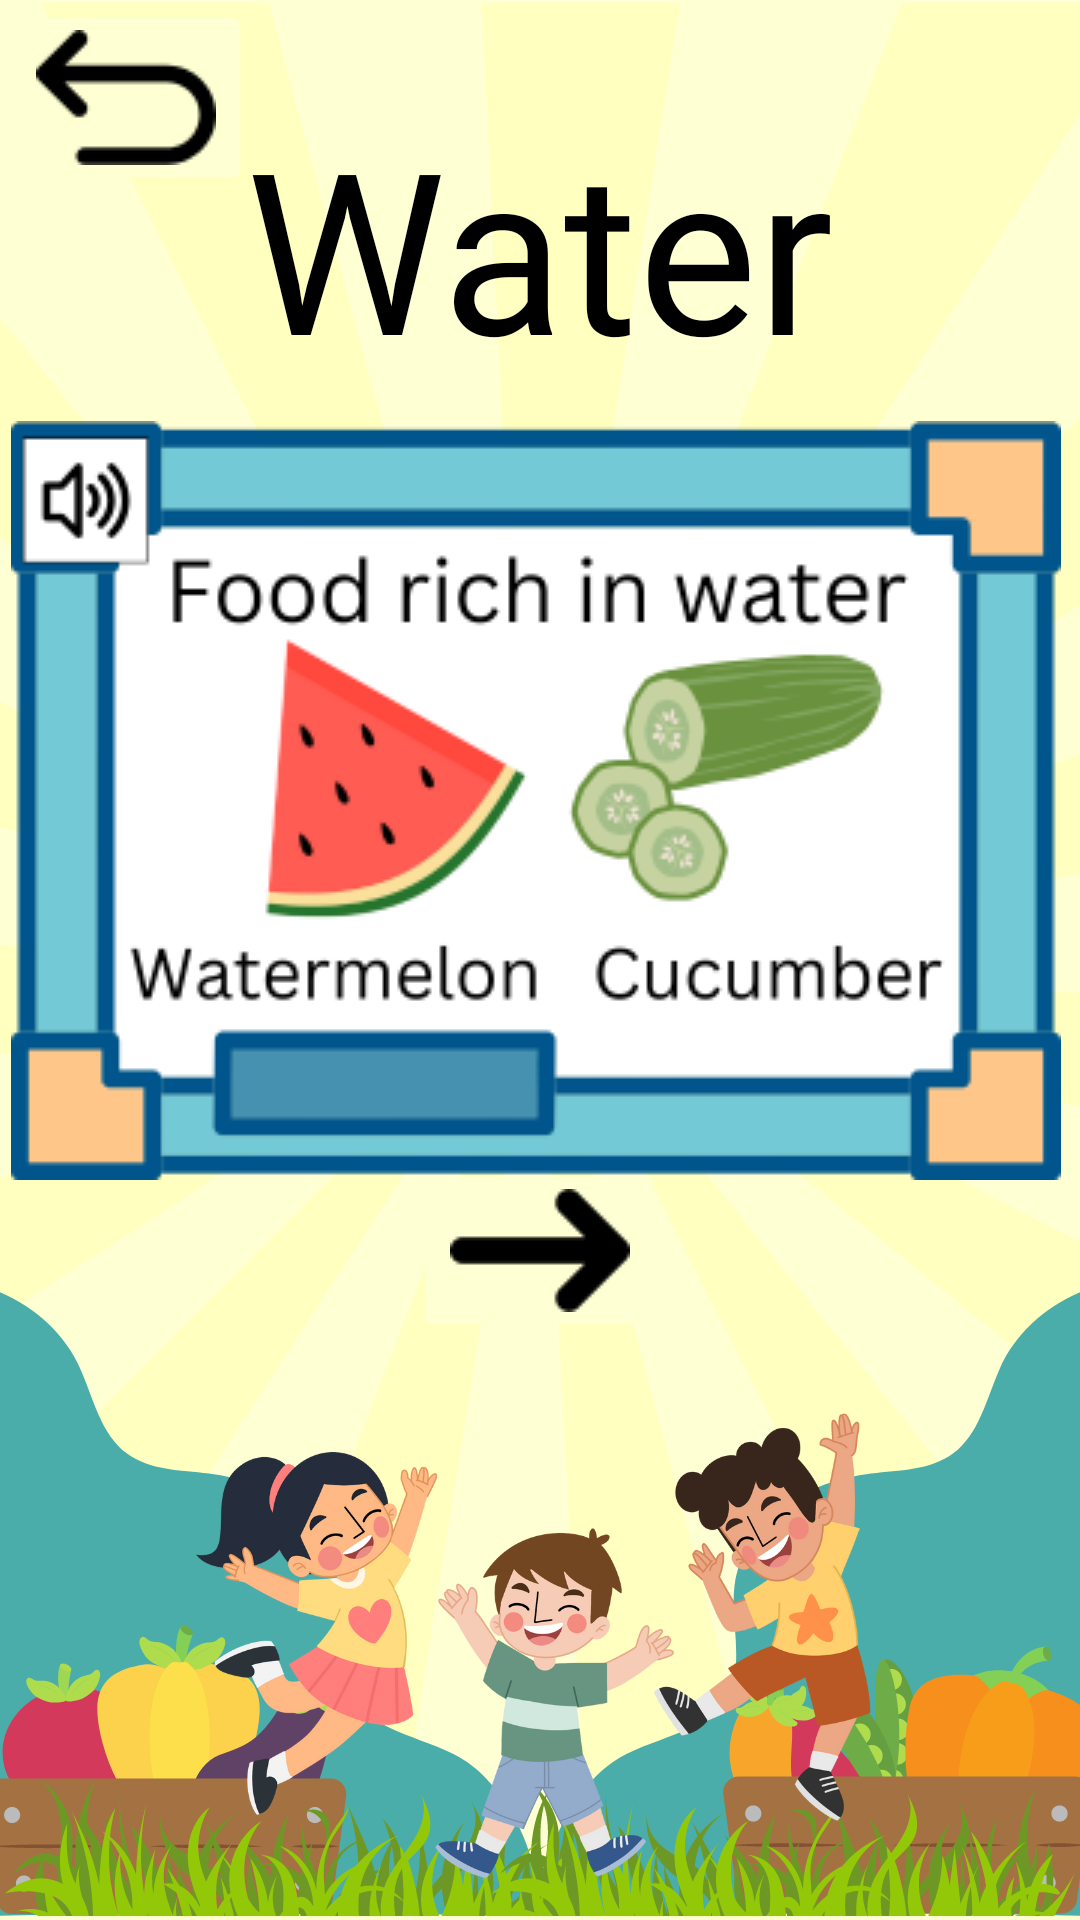

Where to tap for icons on this 1080 x 1920 app screen, as (x=x, y=y):
Back: (x=126, y=97)
Next button: (x=540, y=1250)
